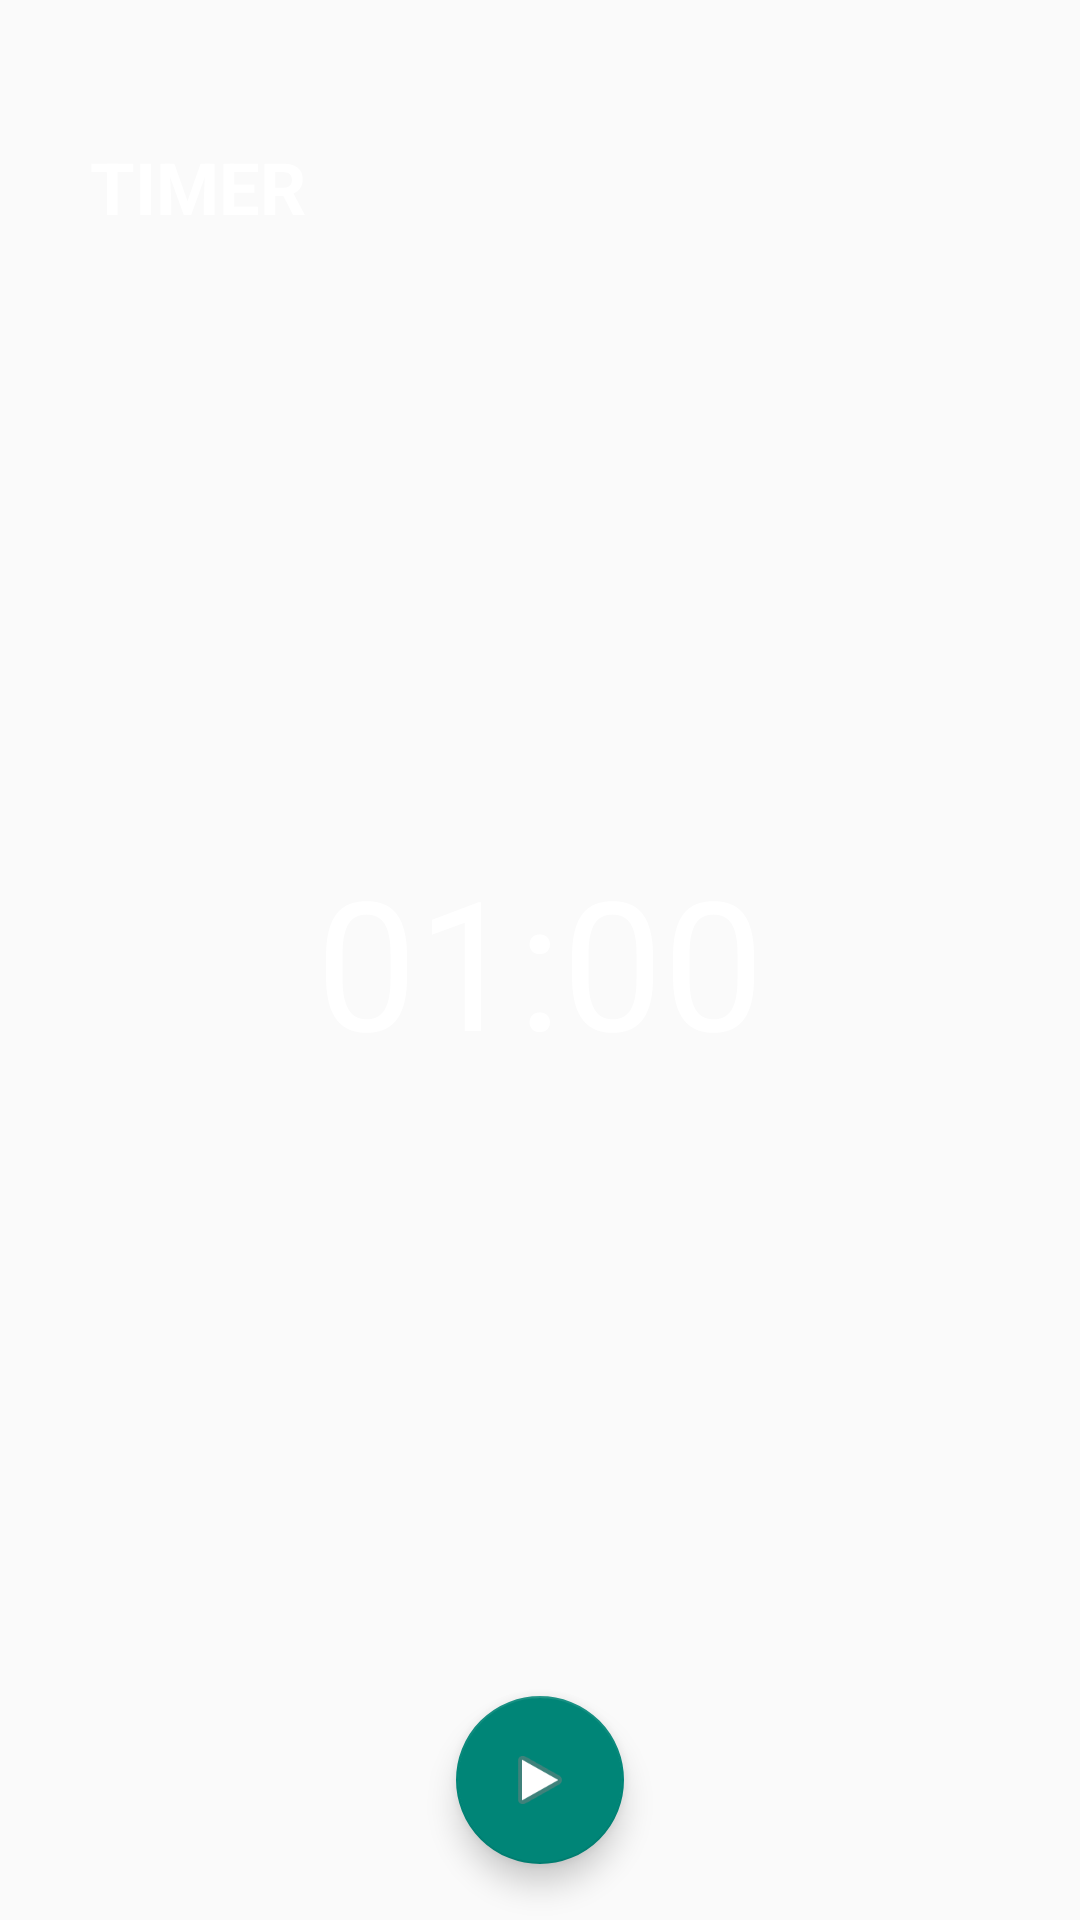

Named icons in this screenshot (1080x1920) and their centers, (x,y):
play: (540,1780)
